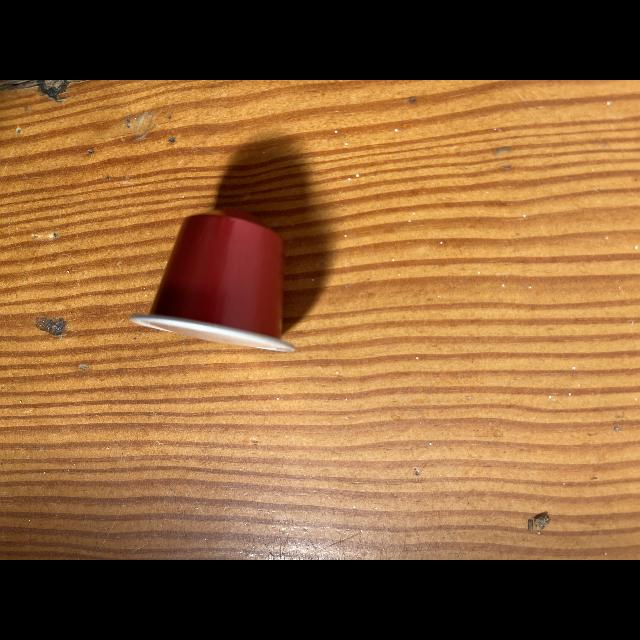intact_capsule: (122, 202, 310, 376)
